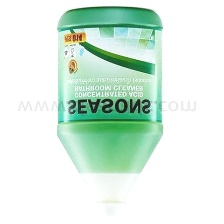cleaning_solution: (54, 2, 166, 220)
